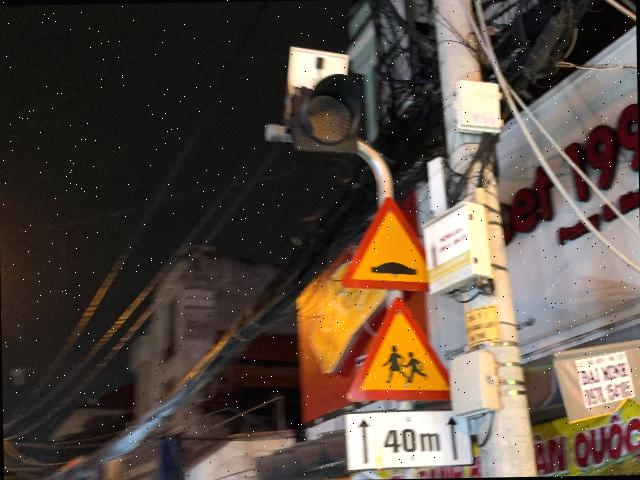duong-co-go-giam-toc: (342, 194, 428, 292)
tre-em-qua-duong: (344, 296, 452, 402)
